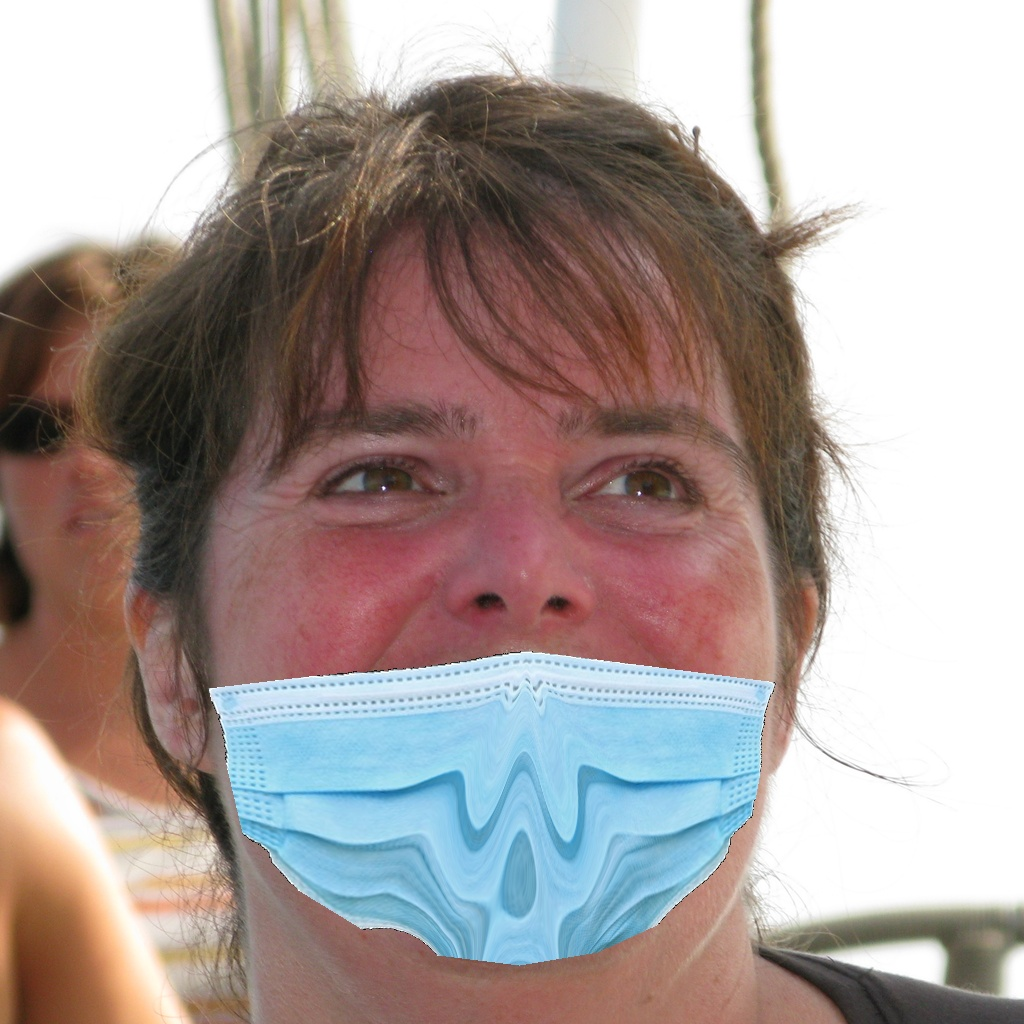mascarilla_mal_puesta: (181, 360, 846, 928)
